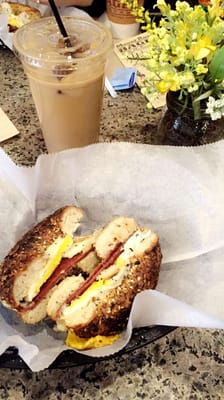pizza: (12, 12, 114, 154)
salad: (48, 0, 72, 45)
soup: (45, 216, 162, 352), (1, 205, 96, 324)
